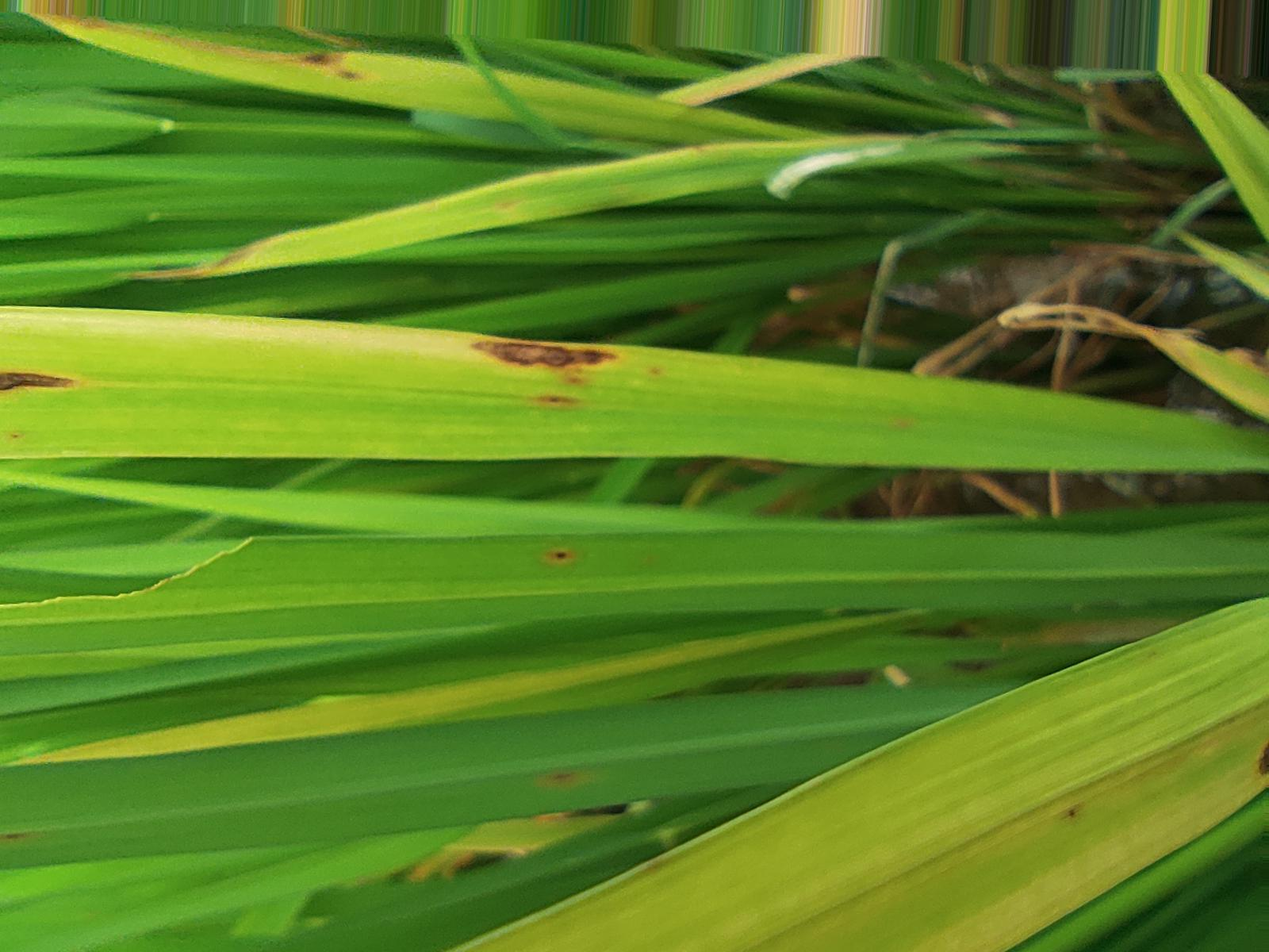LEAF: (0, 306, 1268, 471)
NBS: (470, 339, 625, 387), (0, 370, 85, 391), (532, 395, 582, 407), (649, 367, 662, 375), (11, 435, 20, 438)
